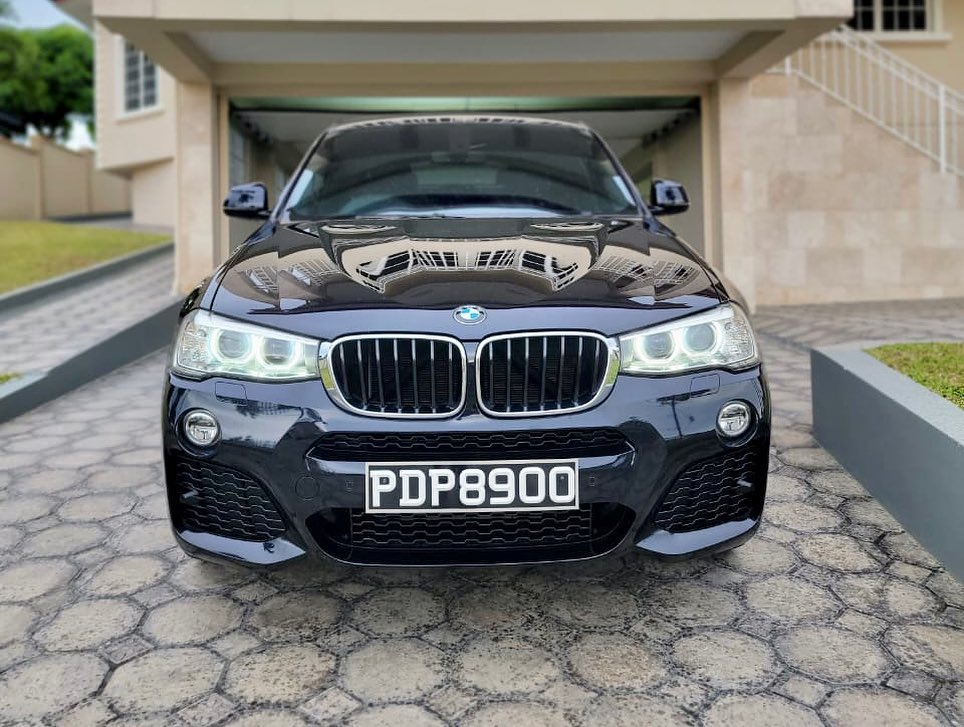License-Plate: (364, 462, 577, 510)
